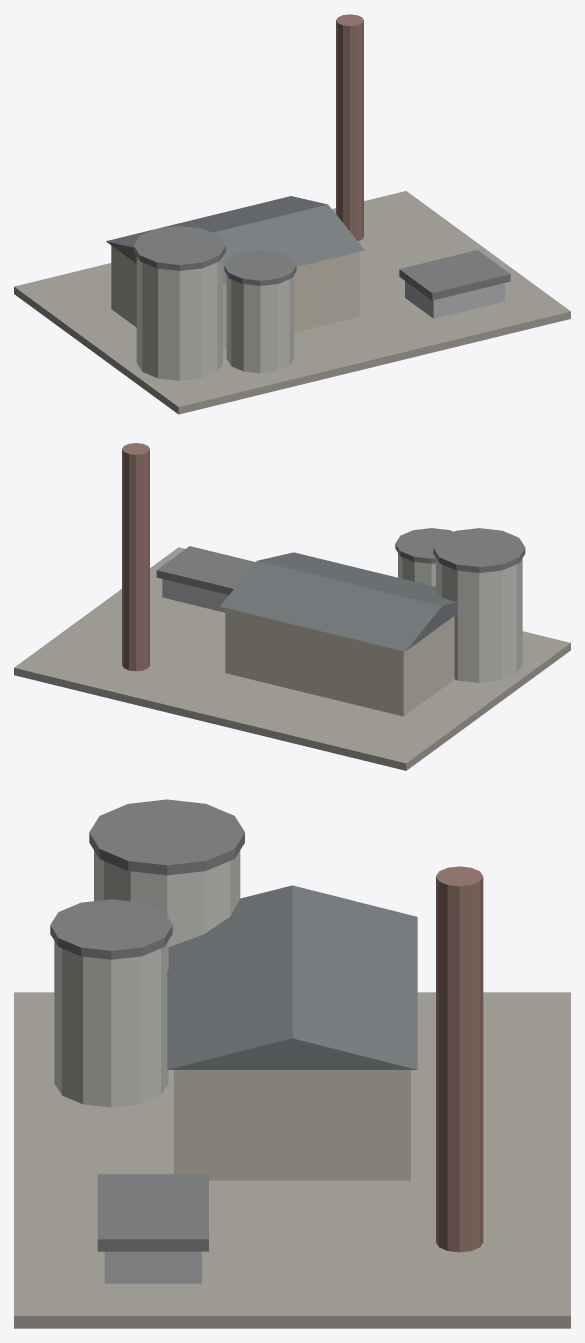
The model's file is ind_energia.glb.
3 renders of one model, top to bottom at view 1: azimuth 30°, elevation 25°; view 2: azimuth 150°, elevation 25°; view 3: azimuth 270°, elevation 25°, orthographic. The views are drawn at different scales.
Visible parts, largest first — view 1: ind_energia; view 2: ind_energia; view 3: ind_energia.
Boxes of the visible parts, box(x1,y1,x2,y2) form: ind_energia: box(14, 14, 570, 414); ind_energia: box(14, 443, 570, 770); ind_energia: box(14, 799, 570, 1328).
Bounding box in the file's own units: 1.1 × 0.6 × 0.8.
